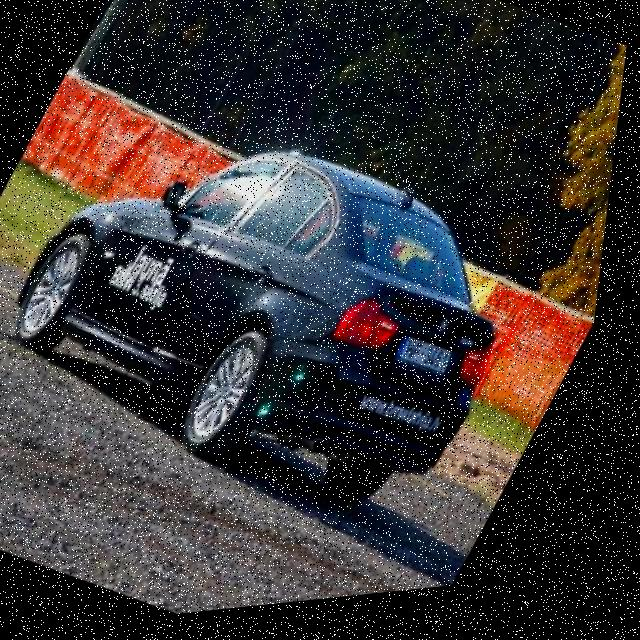license_plate: (399, 341, 466, 394)
